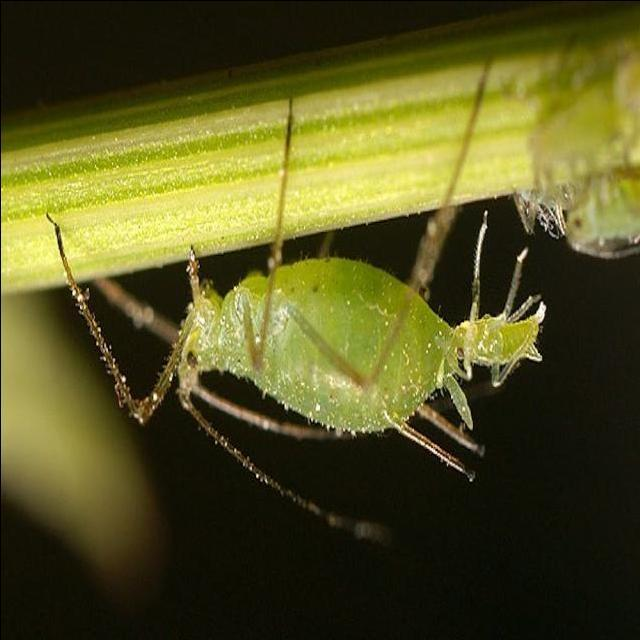aphid: (37, 92, 450, 569), (443, 230, 555, 460)
